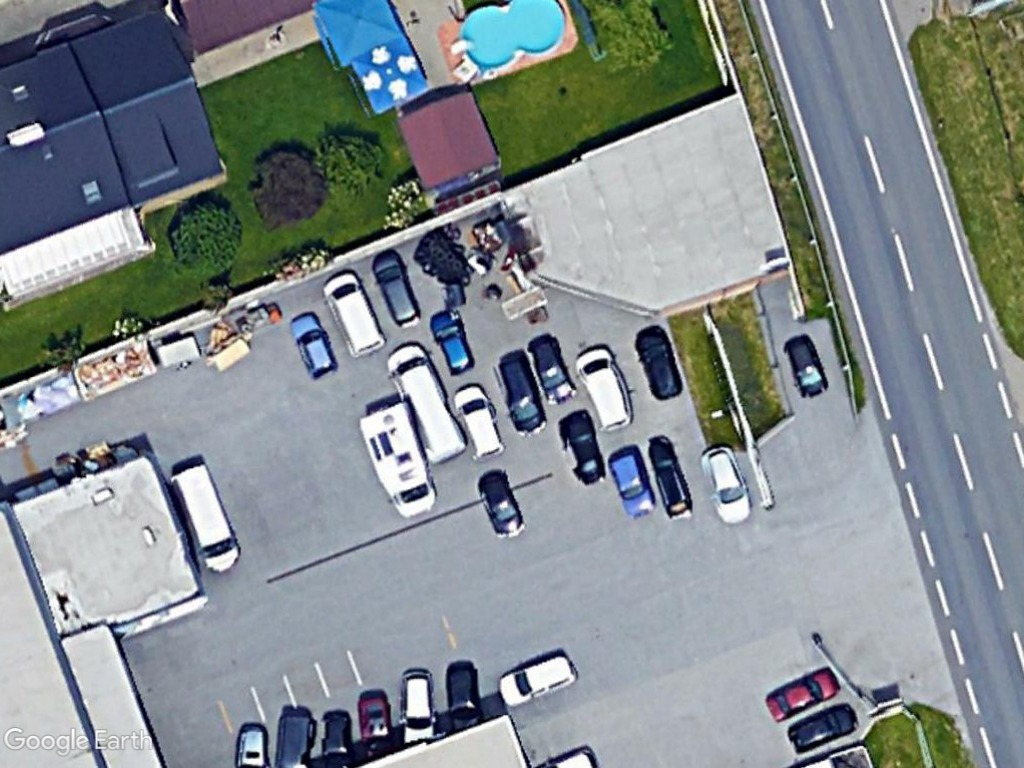car: (574, 340, 638, 430), (495, 645, 578, 712), (493, 348, 550, 439), (698, 443, 758, 528), (644, 433, 699, 525), (448, 378, 506, 465), (471, 464, 532, 546), (762, 664, 841, 725), (369, 243, 422, 329), (784, 700, 864, 756), (525, 328, 578, 410), (631, 321, 682, 404), (606, 440, 655, 525), (558, 411, 611, 489), (285, 310, 342, 382), (391, 665, 439, 749), (782, 329, 832, 401), (425, 309, 476, 378)
van: (383, 338, 466, 468), (165, 458, 254, 579), (319, 265, 387, 363)
